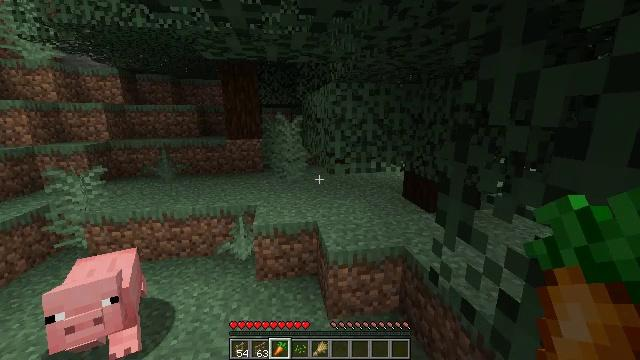pig: (42, 249, 146, 357)
